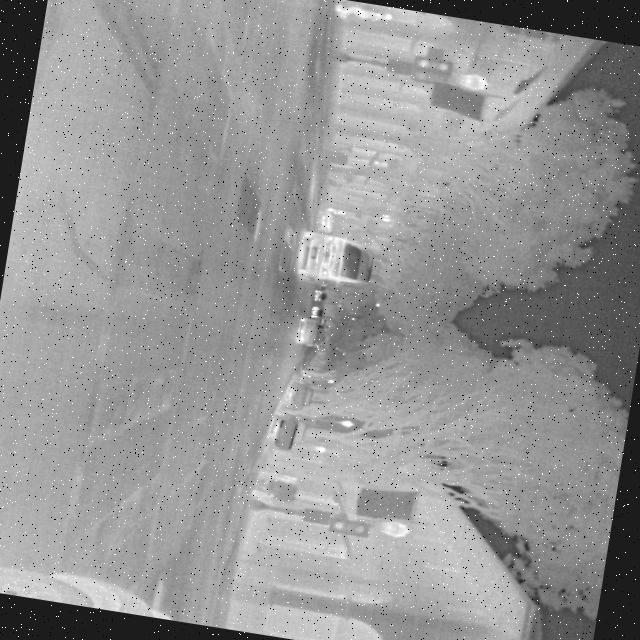Pedestrian: (328, 1, 394, 28), (333, 0, 395, 11), (325, 207, 346, 216)
Vehicle: (292, 228, 379, 294), (292, 314, 331, 351)
